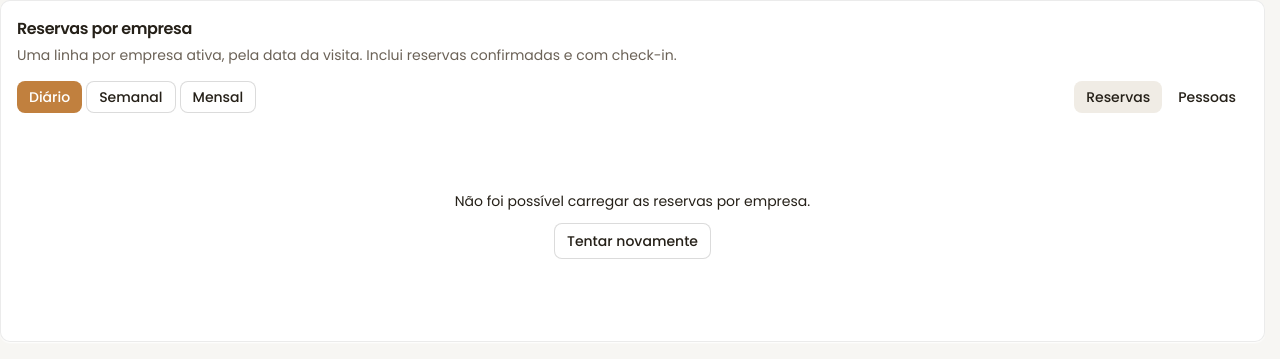
it: CompanyReservationChart › shows a recoverable error instead of zero values on a failed query
The width and height of the screenshot is (1280, 359).
Expected: the message "Não foi possível carregar as reservas por empresa. Tentar novamente" is shown, x1=455 y1=191 x2=810 y2=259
Click the button "Tentar novamente". click: coordinates (632, 241)
box: x1=554 y1=223 x2=711 y2=259
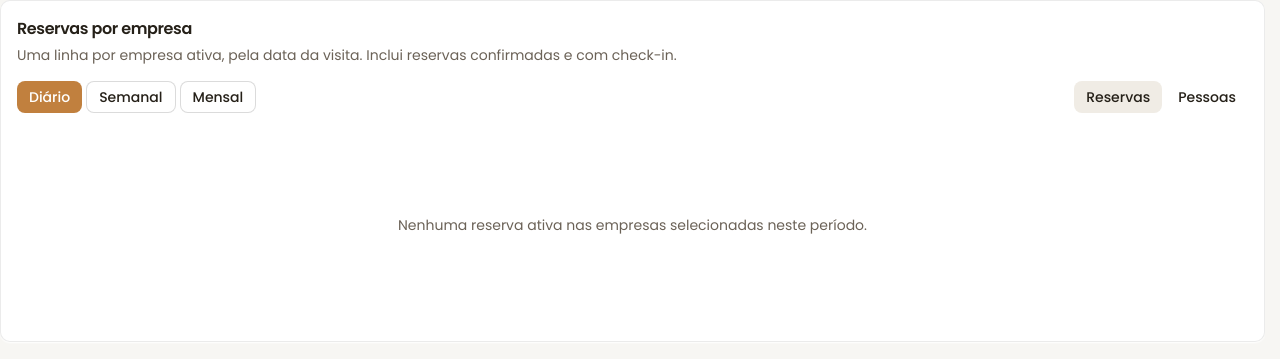
Expected: the text "Nenhuma reserva ativa nas empresas selecionadas neste período." is shown, x1=398 y1=215 x2=867 y2=235
